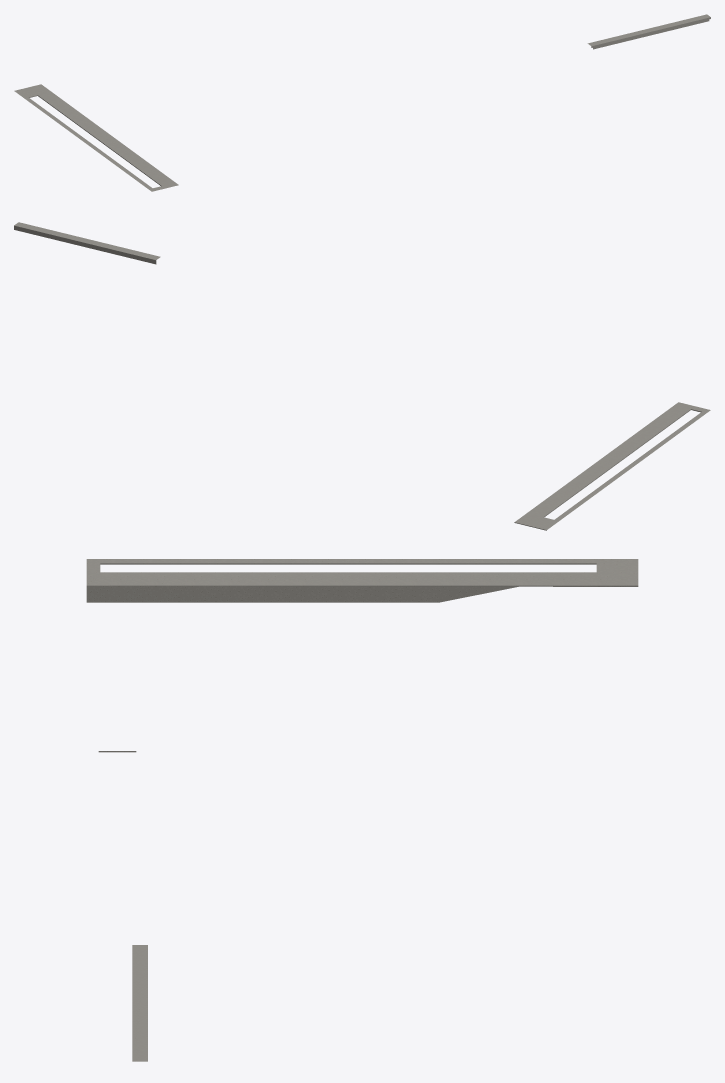
The model's file is kd_stage_135ded_4_117_exterior.glb.
3 renders of one model, top to bottom at view 1: azimuth 30°, elevation 25°; view 2: azimuth 150°, elevation 25°; view 3: azimuth 270°, elevation 25°, orthographic. The views are drawn at different scales.
Visible parts, largest first — view 1: kd_stage_135ded_4_117_exterior; view 2: kd_stage_135ded_4_117_exterior; view 3: kd_stage_135ded_4_117_exterior.
Boxes of the visible parts, left/top/right/bottom form: kd_stage_135ded_4_117_exterior: left=14, top=14, right=710, bottom=191; kd_stage_135ded_4_117_exterior: left=14, top=222, right=710, bottom=530; kd_stage_135ded_4_117_exterior: left=86, top=559, right=638, bottom=1061.
Bounding box in the file's own units: 16.72 × 1.25 × 7.
1 material, 1 textured.
